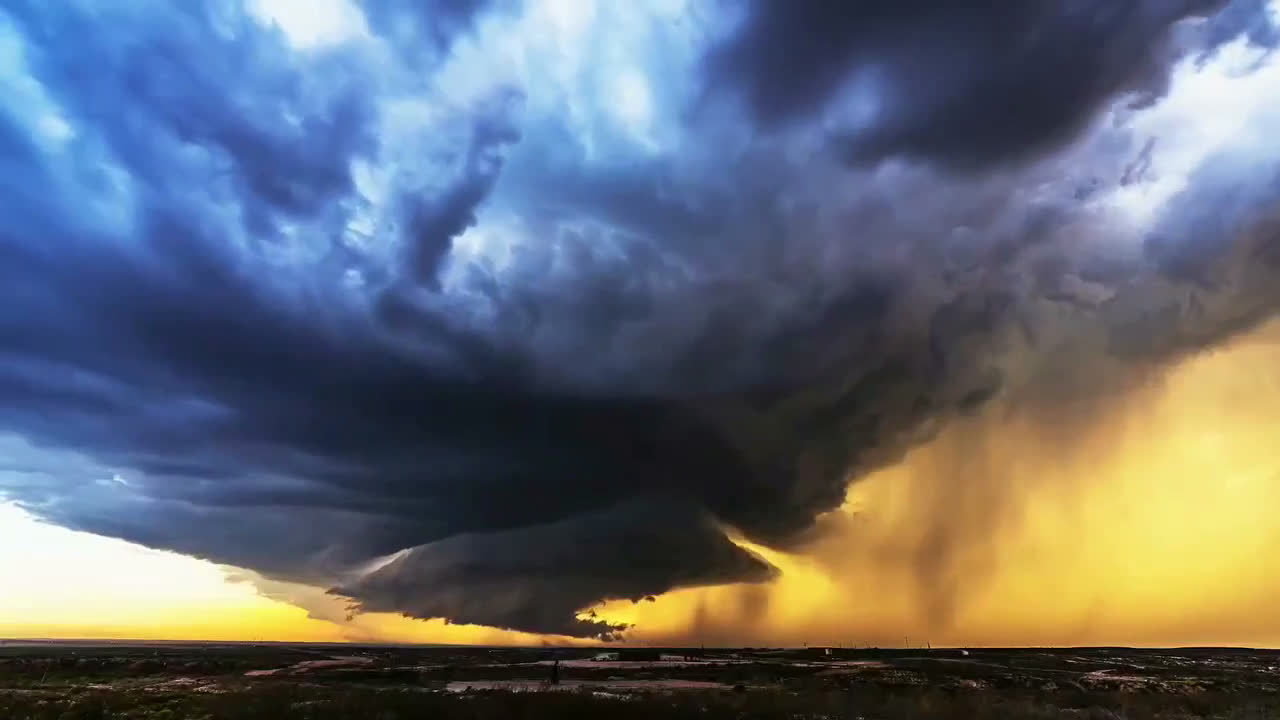FFD: (834, 344, 1278, 649)
RFD: (337, 583, 775, 645)
mesocyclone: (15, 236, 1011, 570)
wall cloud: (321, 495, 781, 647)
